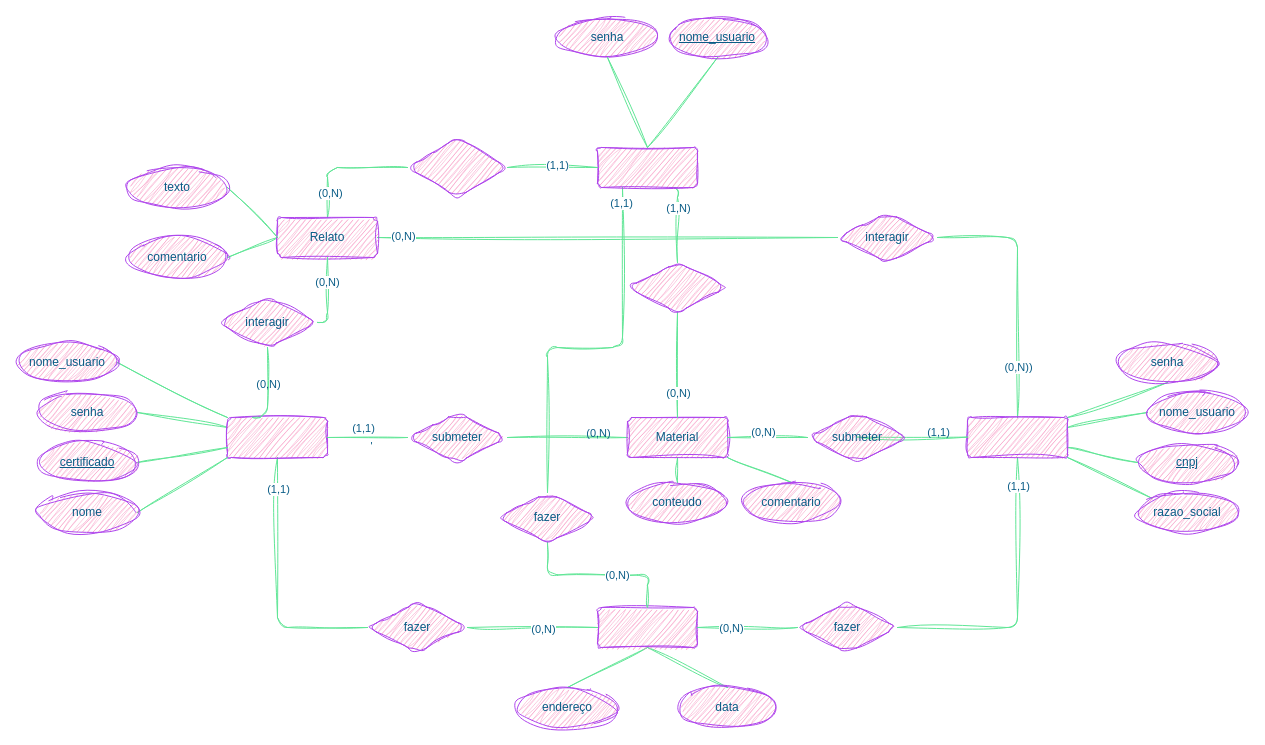
Some shapes in this 1265 by 745 pixel diagram are drawn without their labels. The centre of each missing label's shape, as x and y in pixels:
"Denuncia" goes at [647,627].
"Integrante" goes at [647,167].
"ONG" goes at [1017,437].
"Profissional" goes at [277,437].
"publicar" goes at [457,167].
"visualizar" goes at [677,287].
